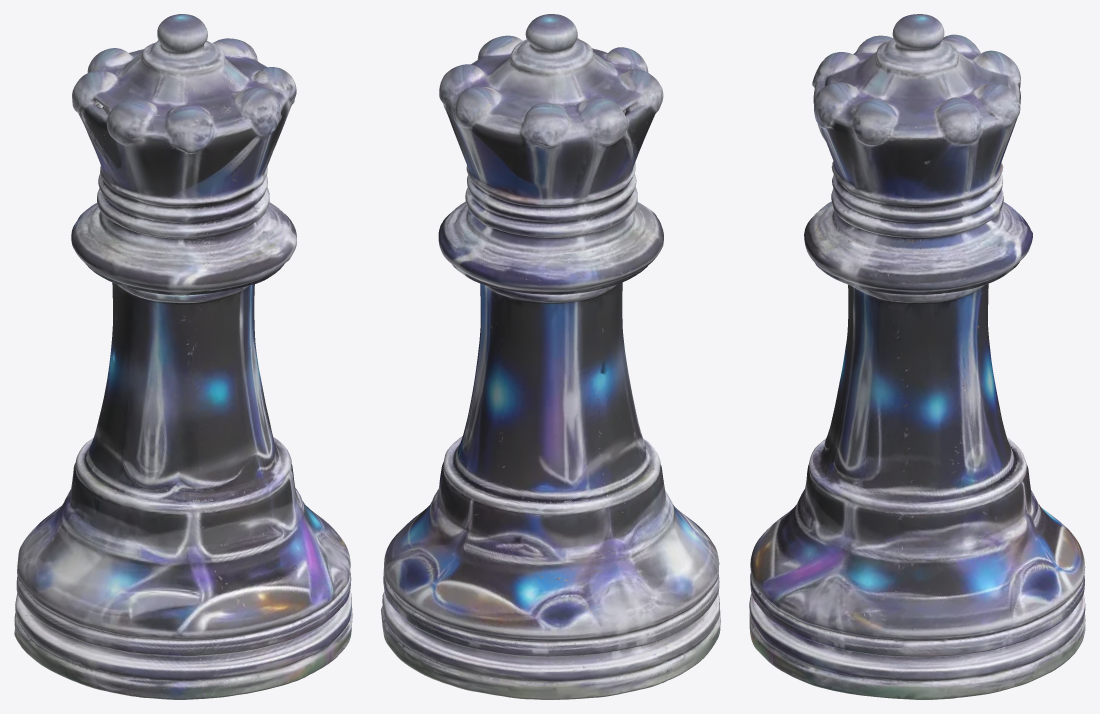
Rendered from Meshy_AI_Prismatic_Glass_King_0630054502_texture-optimized (1).glb.
3 views of the same model, side by side, from view 1: azimuth 30°, elevation 25°; view 2: azimuth 150°, elevation 25°; view 3: azimuth 270°, elevation 25° (orthographic).
Size of the model in its own units: 0.9971 by 2 by 0.9948.
Materials: 1 (1 with a texture image).
